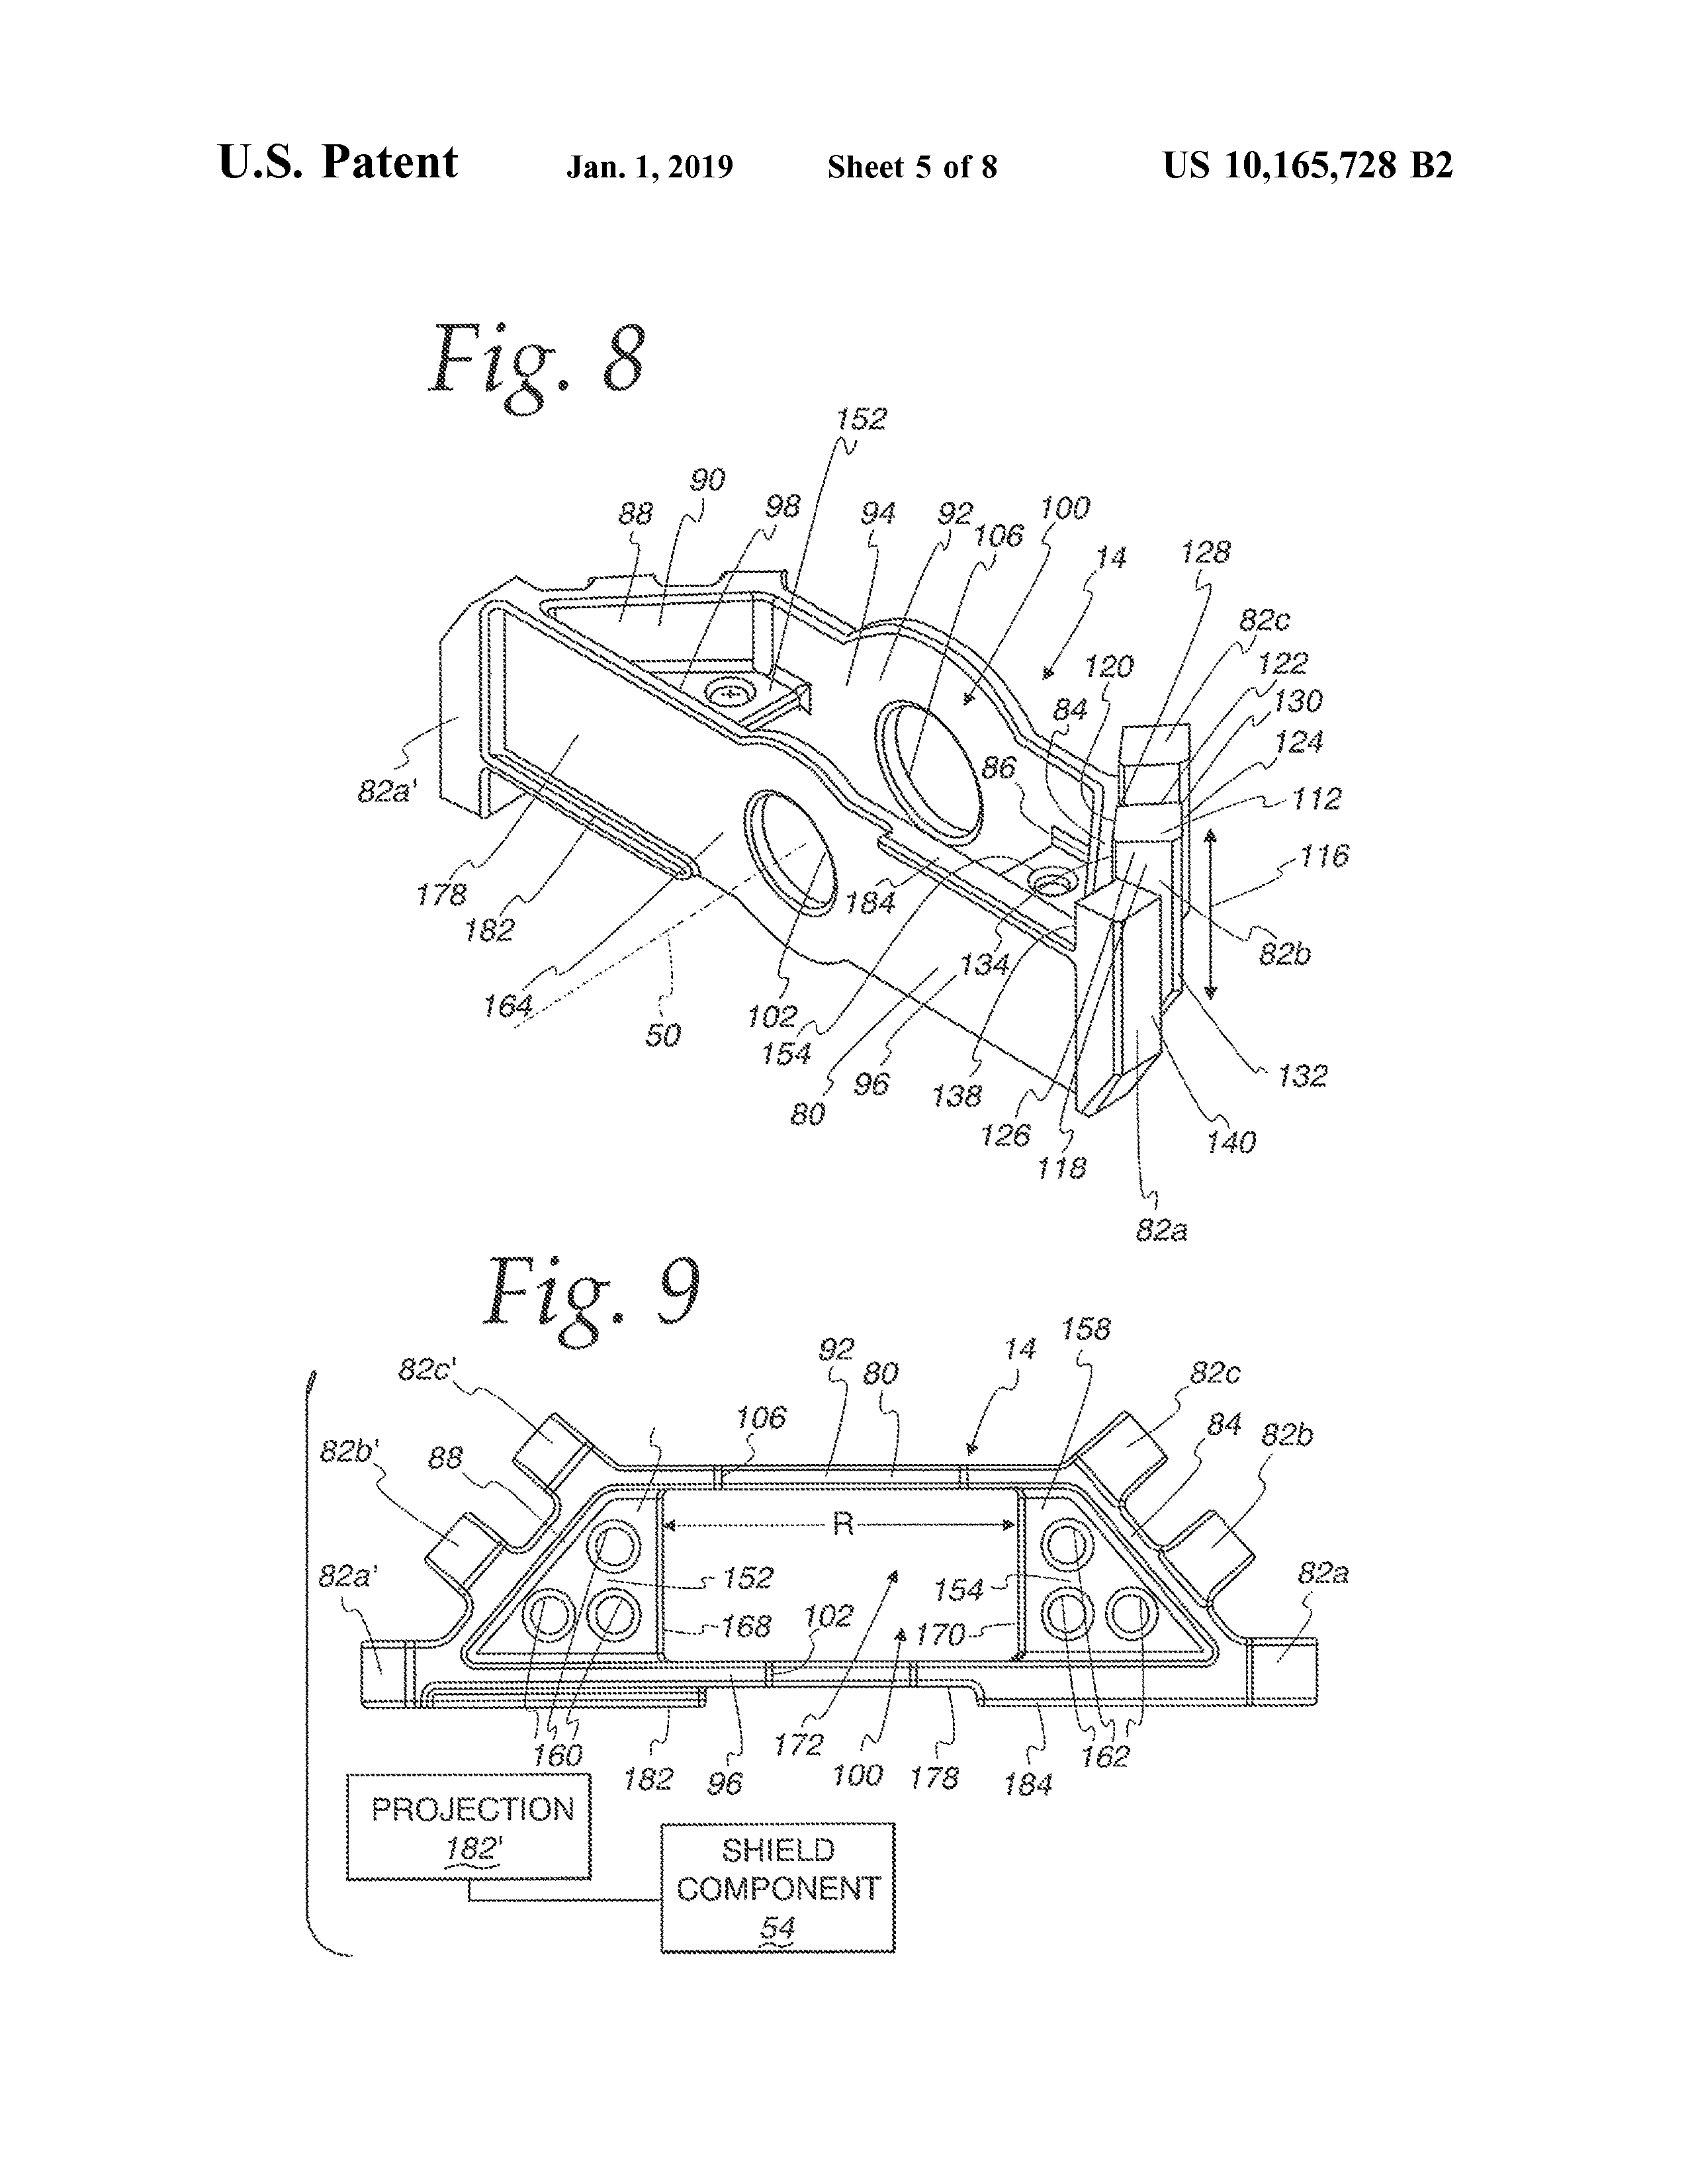patent image: (322, 288, 1395, 1254), (270, 1243, 1343, 1985)
